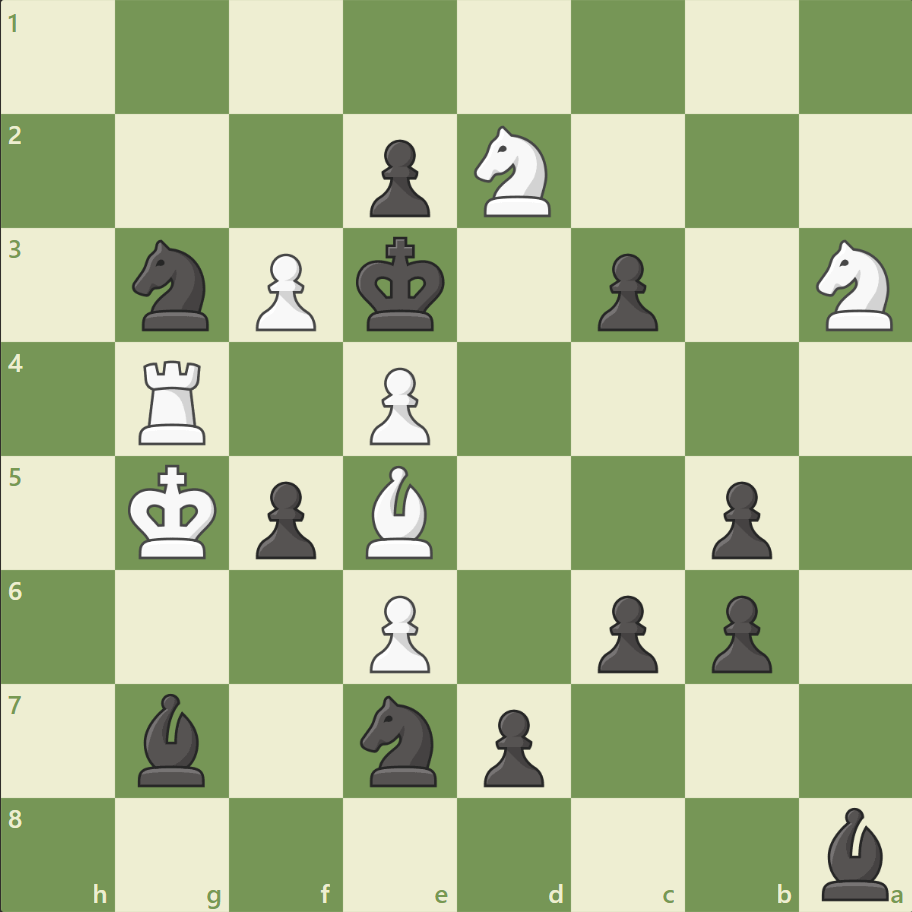B: (358, 460, 442, 563)
K: (124, 458, 224, 566)
N: (806, 234, 903, 337), (465, 121, 562, 223)
P: (247, 246, 322, 337), (361, 586, 435, 677), (361, 359, 435, 450)
R: (133, 352, 215, 449)
b: (812, 801, 896, 904), (131, 687, 215, 790)
k: (351, 231, 451, 339)
n: (351, 688, 449, 791), (124, 234, 222, 337)
p: (474, 700, 549, 791), (701, 586, 776, 677), (701, 473, 776, 564), (247, 473, 322, 564), (588, 586, 662, 677), (588, 246, 662, 337), (361, 132, 435, 223)
